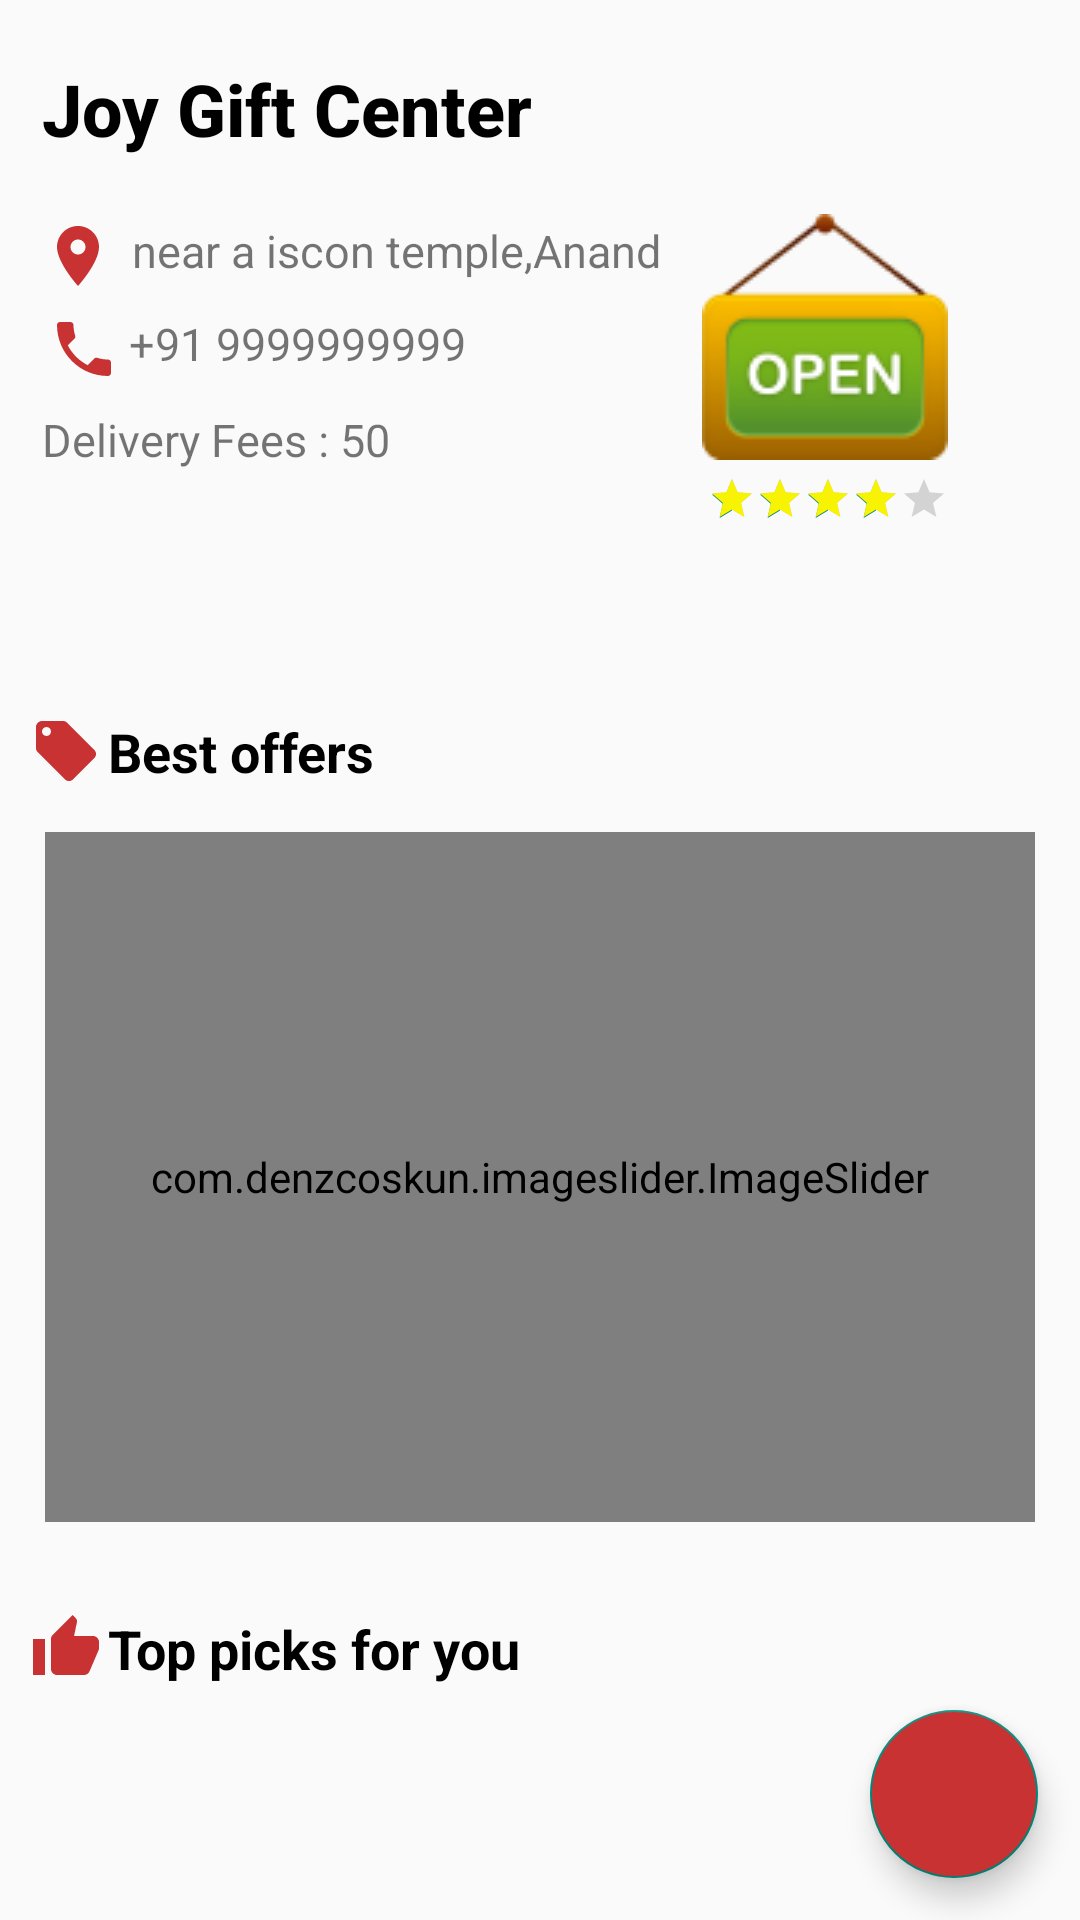

Point at icon controls on the screen. Image size 1080x1920, points as (x,y).
local offer: (66,751)
thumb up: (66,1645)
